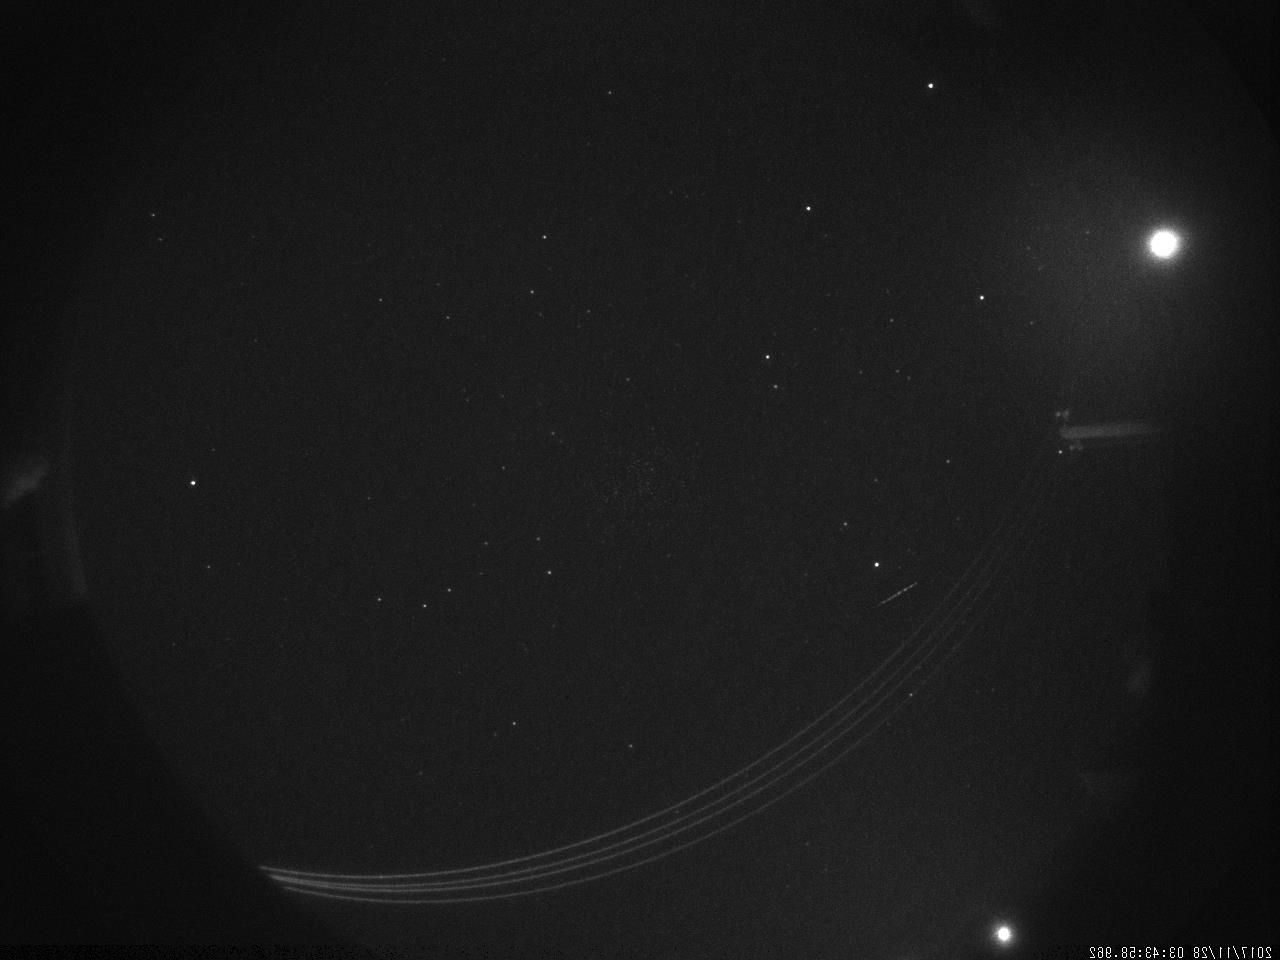meteor: (855, 572, 933, 622)
